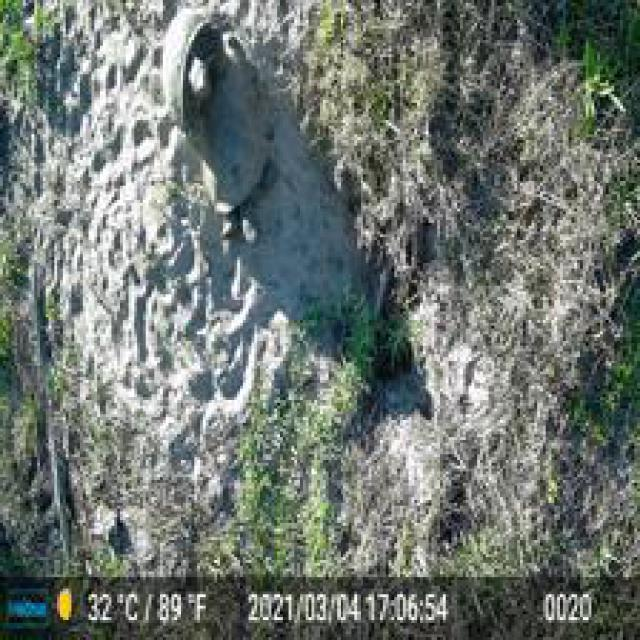tortoise: (165, 63, 268, 246), (154, 9, 217, 117)
